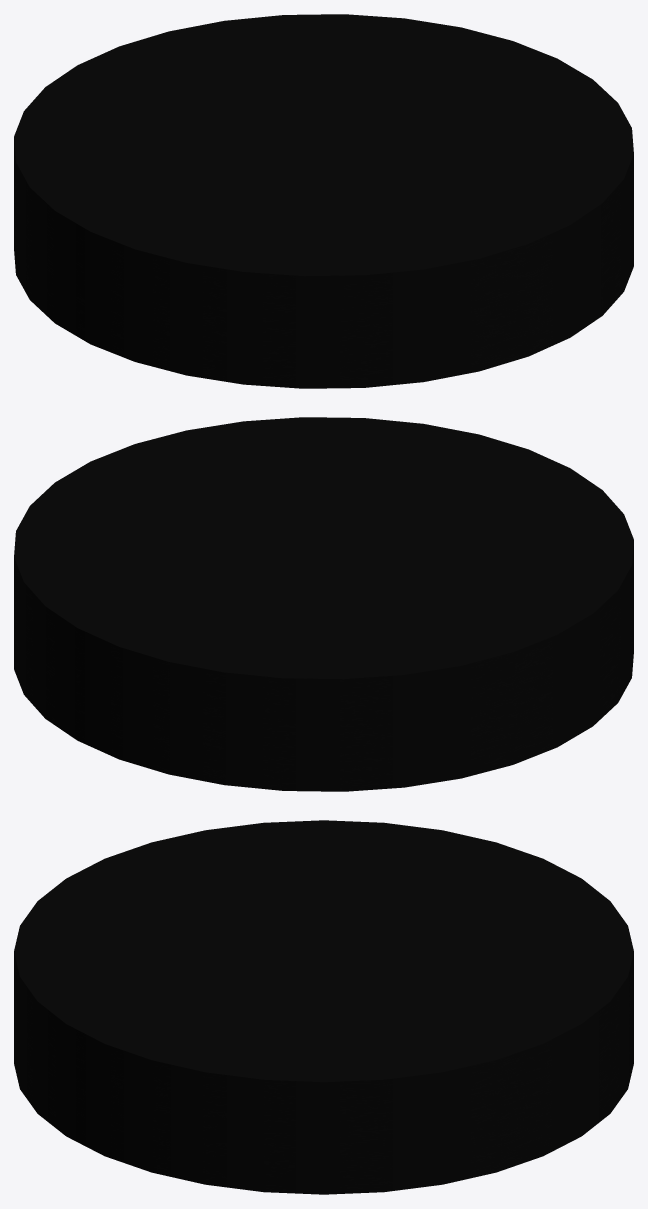
File: blackStone.glb
3 renders of one model, top to bottom at view 1: azimuth 30°, elevation 25°; view 2: azimuth 150°, elevation 25°; view 3: azimuth 270°, elevation 25°, orthographic.
Parts seen in each view (by area): view 1: 円柱; view 2: 円柱; view 3: 円柱.
Boxes of the visible parts, x1,y1,x2,y2 form: 円柱: (14,14,633,388); 円柱: (14,417,633,791); 円柱: (14,820,633,1194).
Size of the model in its own units: 2 by 0.4 by 2.
1 material, 1 textured.
